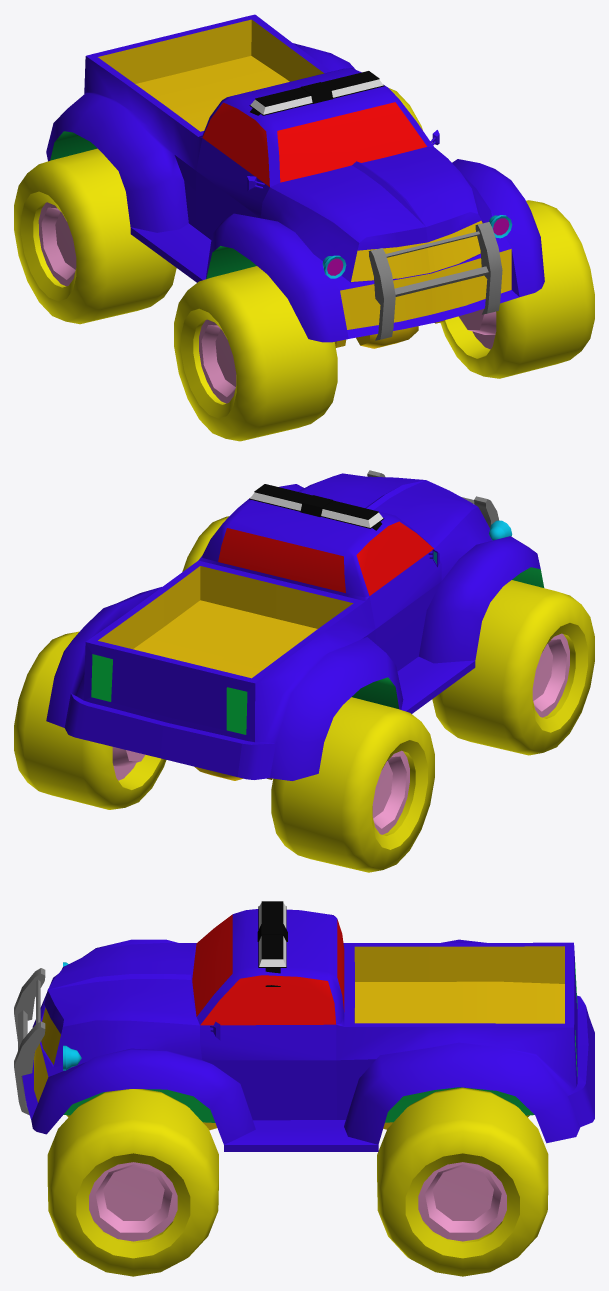
File: 10_GrulloBASSPolice_ColorCoded.fbx
3 renders of one model, top to bottom at view 1: azimuth 30°, elevation 25°; view 2: azimuth 150°, elevation 25°; view 3: azimuth 270°, elevation 25°, orthographic. The views are drawn at different scales.
Parts seen in each view (by area): view 1: Body, tireFrontR, tireBackR, tireFrontL, police_ram, police_light; view 2: Body, tireBackR, tireFrontR, tireBackL, police_light, tireFrontL, police_ram; view 3: Body, tireBackL, tireFrontL, police_ram, police_light.
Boxes of the visible parts, box(x1,y1,x2,y2) form: Body: box(46, 14, 544, 348); tireFrontR: box(174, 266, 337, 441); tireBackR: box(14, 148, 176, 324); tireFrontL: box(440, 200, 594, 378); police_ram: box(368, 222, 502, 340); police_light: box(249, 71, 384, 115); Body: box(46, 473, 544, 780); tireBackR: box(271, 697, 434, 872); tireFrontR: box(432, 580, 594, 755); tireBackL: box(14, 631, 166, 809); police_light: box(249, 484, 384, 530); tireFrontL: box(182, 516, 228, 571); police_ram: box(367, 470, 499, 527); Body: box(22, 909, 594, 1151); tireBackL: box(377, 1087, 548, 1276); tireFrontL: box(47, 1089, 218, 1276); police_ram: box(14, 968, 45, 1115); police_light: box(257, 901, 287, 986).
Size of the model in its own units: 83.55 by 116 by 59.01.
